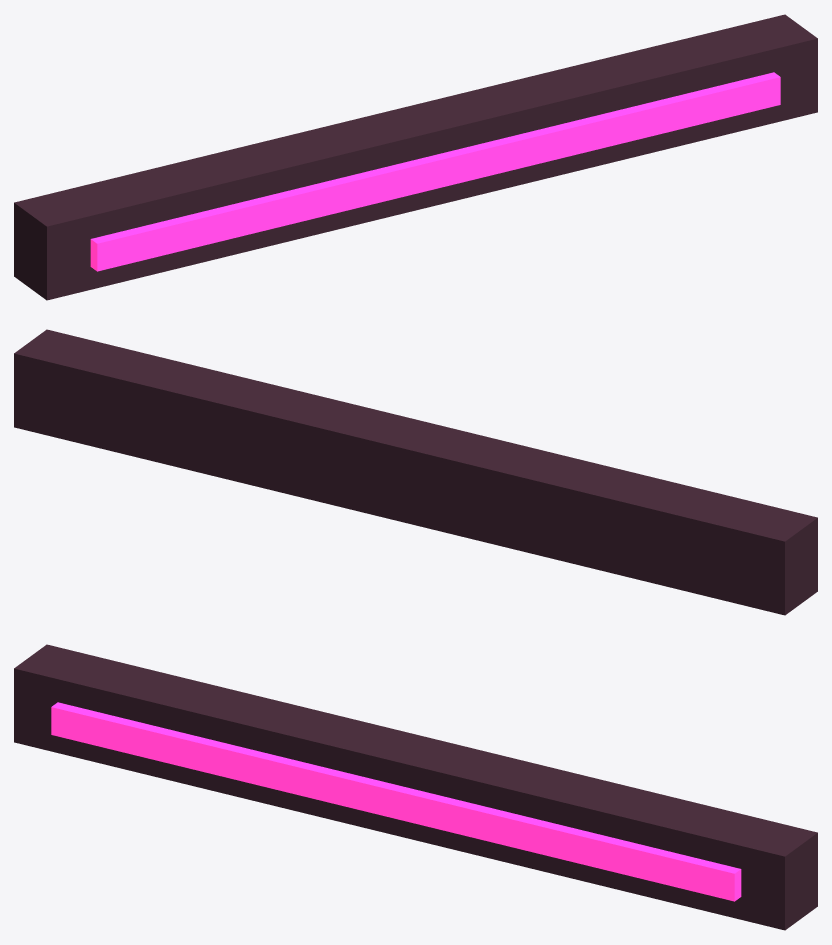
Rendered from sahur__visor.glb.
The picture shows the model from 3 angles, top to bottom: view 1: azimuth 30°, elevation 25°; view 2: azimuth 150°, elevation 25°; view 3: azimuth 330°, elevation 25°; orthographic projection.
Parts seen in each view (by area): view 1: Cyber Visor; view 2: Cyber Visor; view 3: Cyber Visor.
Part boxes in pixels (x1,y1,x2,y2): Cyber Visor: (14,14,817,300); Cyber Visor: (14,329,817,615); Cyber Visor: (14,644,817,930).
Size of the model in its own units: 0.557 by 0.051 by 0.0494.
